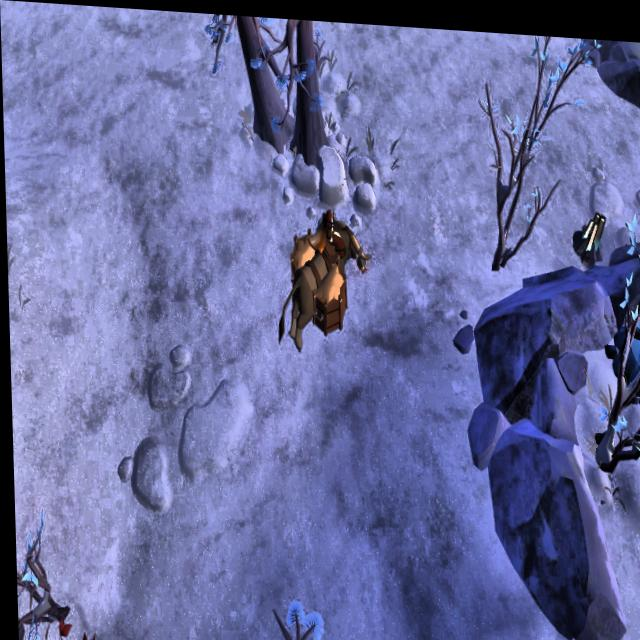ore_t4: (578, 200, 608, 246)
